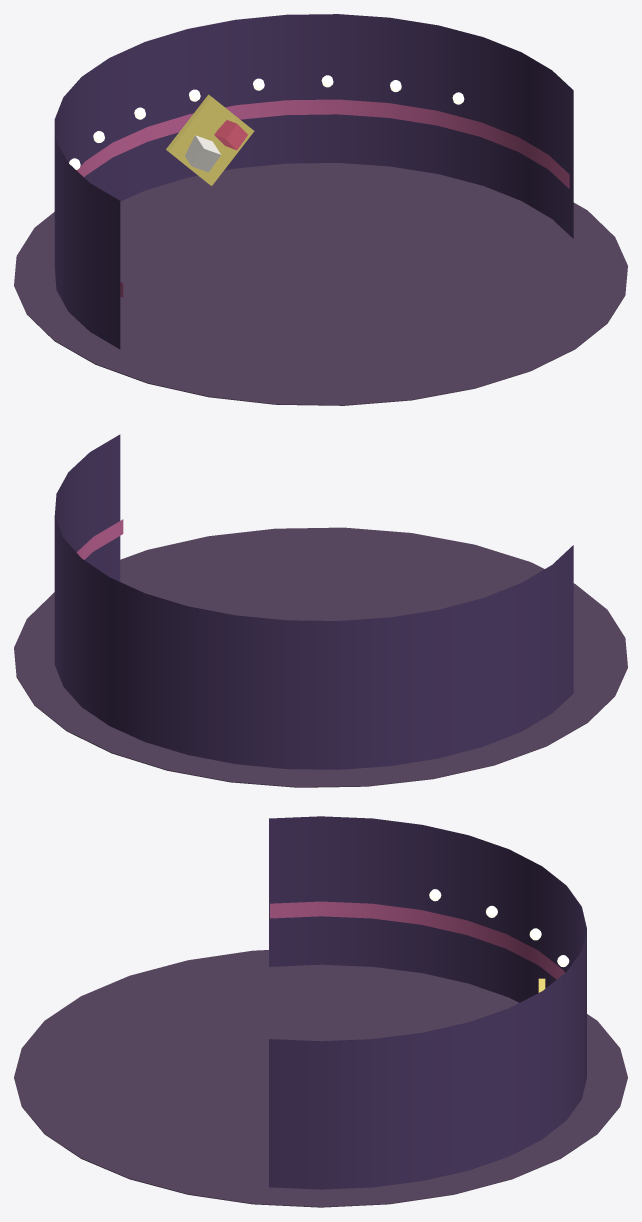
Rendered from Estudio.glb.
The picture shows the model from 3 angles, top to bottom: view 1: azimuth 30°, elevation 25°; view 2: azimuth 150°, elevation 25°; view 3: azimuth 270°, elevation 25°; orthographic projection.
Parts seen in each view (by area): view 1: Estudio; view 2: Estudio; view 3: Estudio.
Boxes of the visible parts, x1,y1,x2,y2 form: Estudio: (14, 14, 627, 405); Estudio: (14, 434, 627, 787); Estudio: (14, 816, 627, 1207).
Bounding box in the file's own units: 15 × 4.02 × 15.
